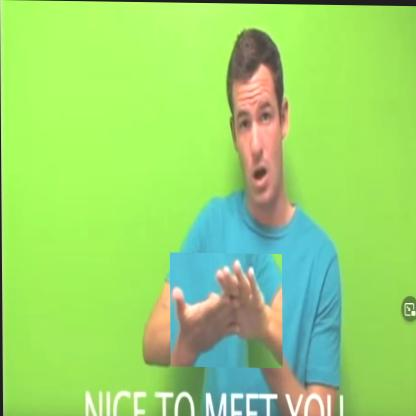NiceToMeetYou: (169, 252, 282, 368)
